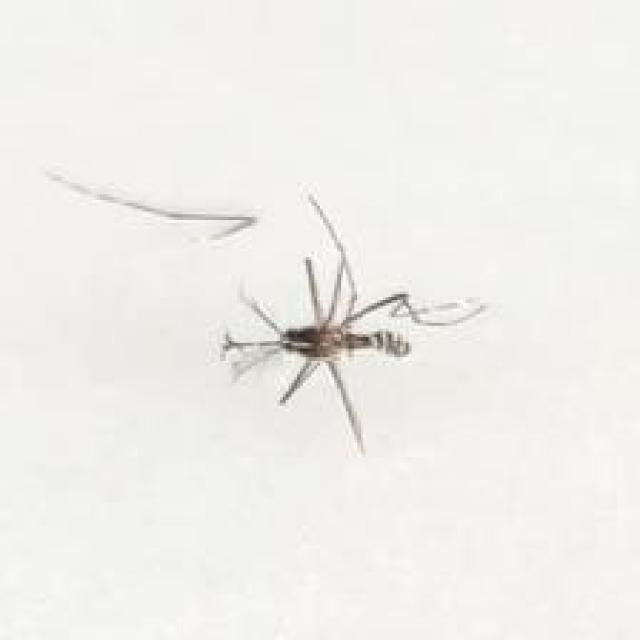Aedes albopictus: (219, 192, 487, 454)
